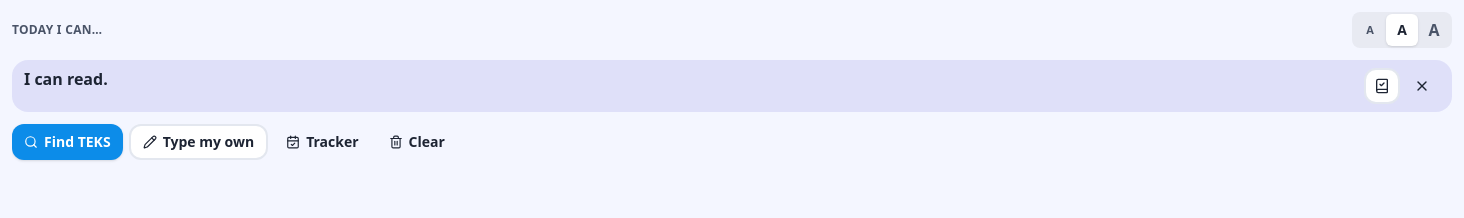
Test: text size › switches between small, medium and large from the widget, defaulting to medium
Step 1. Click the radio button named "Small text" → x=1370, y=30, box [1354,14,1386,46]
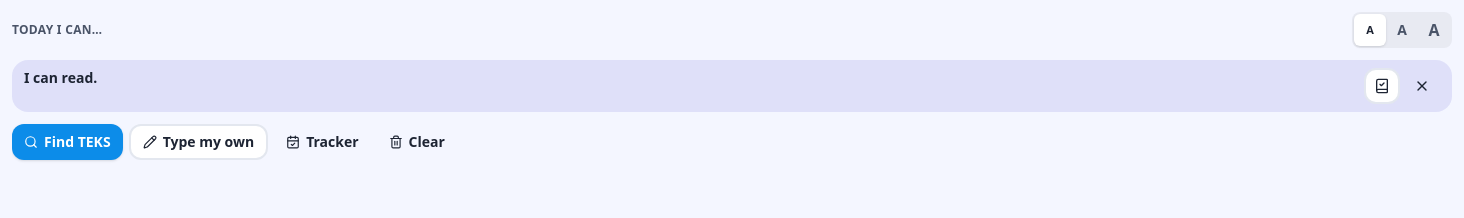
Expected: the text with test id "ican-text" has class "text-sm", [24,68,97,87]
Step 2. Click the radio button named "Large text" → x=1434, y=30, box [1418,14,1450,46]
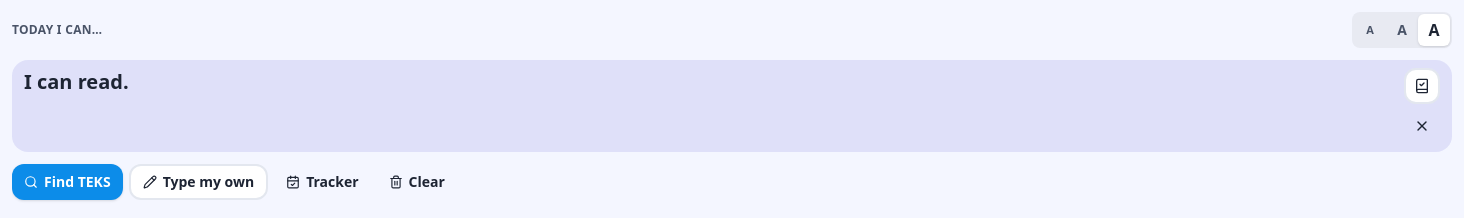
Expected: the text with test id "ican-text" has class "text-xl", [24,68,129,95]
